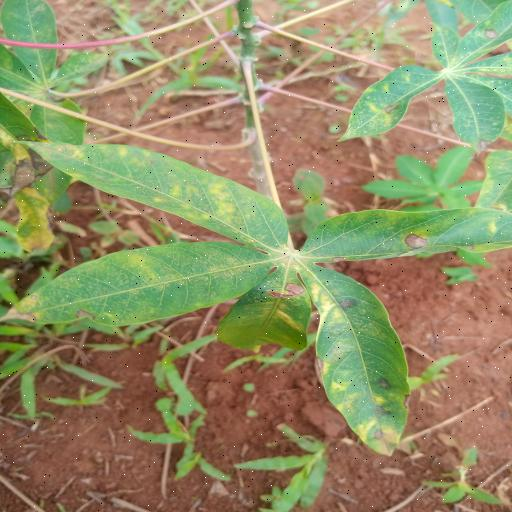Cassava_Mosaic: (0, 127, 512, 461)
